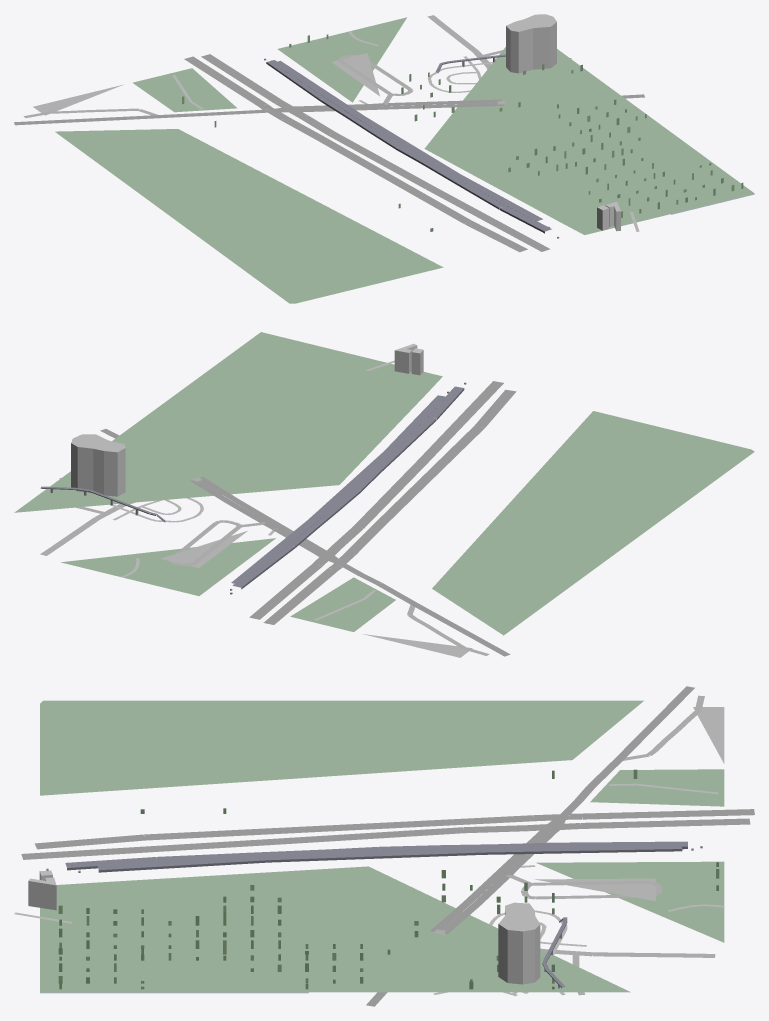
The picture shows the model from 3 angles, top to bottom: view 1: azimuth 30°, elevation 25°; view 2: azimuth 150°, elevation 25°; view 3: azimuth 270°, elevation 25°; orthographic projection. The views are drawn at different scales.
Size of the model in its own units: 547 by 44.48 by 541.
